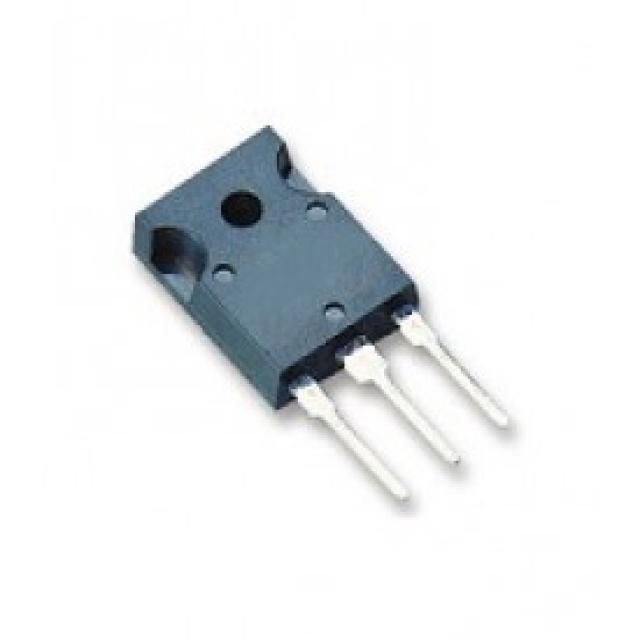Transistor: (130, 127, 521, 513)
